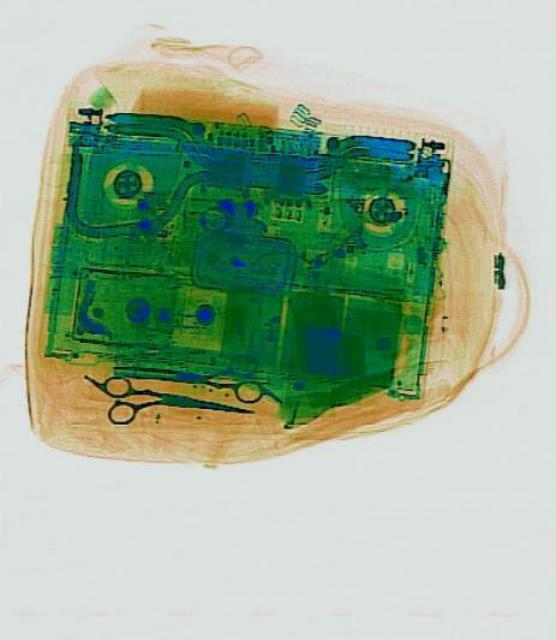Scissors: (97, 372, 256, 434), (111, 339, 264, 403)
